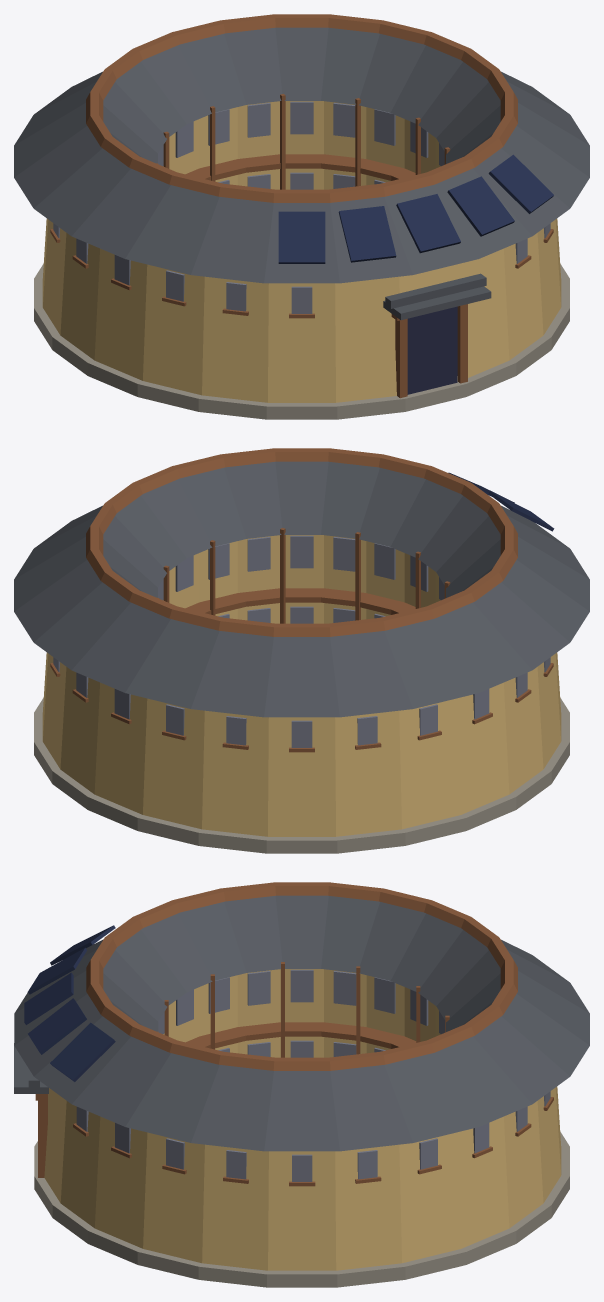
Rendered from house-2x2-2f-tulou-a-solar.glb.
3 renders of one model, top to bottom at view 1: azimuth 30°, elevation 25°; view 2: azimuth 150°, elevation 25°; view 3: azimuth 270°, elevation 25°, orthographic.
Parts seen in each view (by area): view 1: house-2x2-2f-tulou-a-solar; view 2: house-2x2-2f-tulou-a-solar; view 3: house-2x2-2f-tulou-a-solar.
Part boxes in pixels (left/top/right/bottom): house-2x2-2f-tulou-a-solar: left=14, top=14, right=589, bottom=419; house-2x2-2f-tulou-a-solar: left=14, top=448, right=589, bottom=853; house-2x2-2f-tulou-a-solar: left=14, top=882, right=589, bottom=1287.
Bounding box in the file's own units: 1.98 × 0.77 × 1.98.
1 material, 1 textured.
